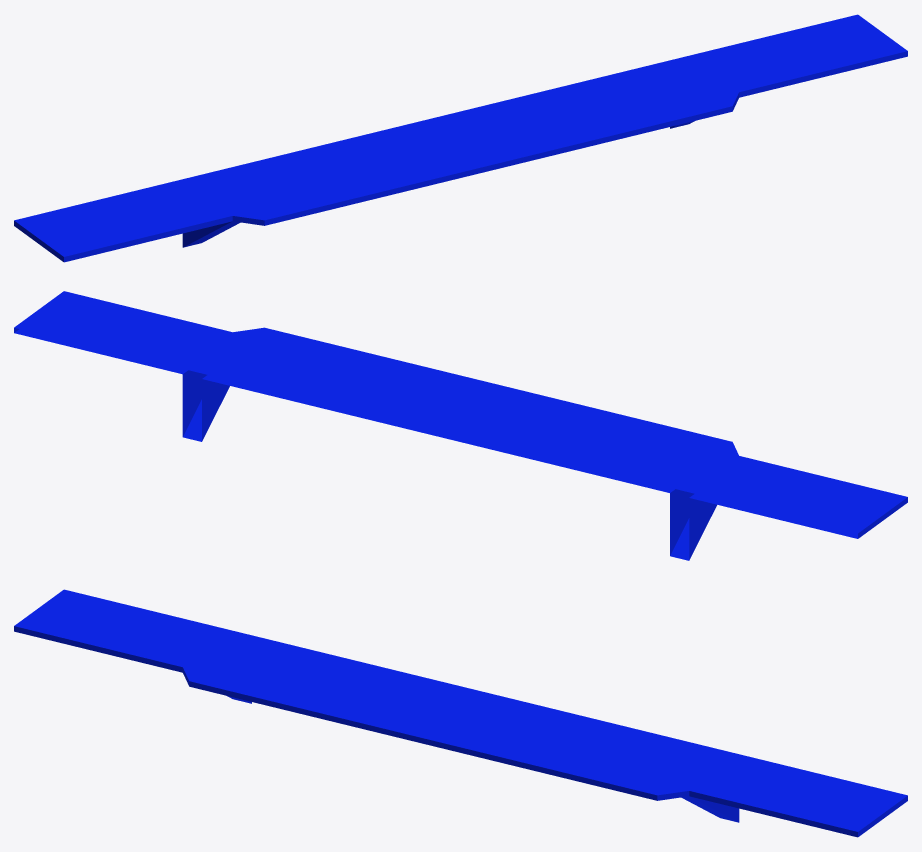
Rendered from Since Table.fbx.
The picture shows the model from 3 angles, top to bottom: view 1: azimuth 30°, elevation 25°; view 2: azimuth 150°, elevation 25°; view 3: azimuth 330°, elevation 25°; orthographic projection.
Visible parts, largest first — view 1: Since Table; view 2: Since Table; view 3: Since Table.
Part boxes in pixels (x1,y1,x2,y2): Since Table: (14, 14, 907, 262); Since Table: (14, 291, 907, 560); Since Table: (14, 589, 907, 837).
Bounding box in the file's own units: 5.33 × 0.4138 × 0.6857.
